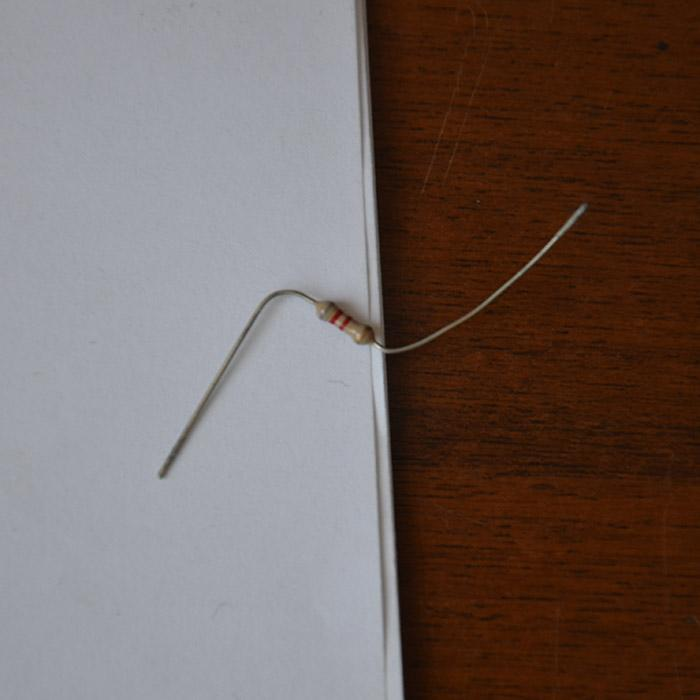resistor: (314, 299, 373, 345)
